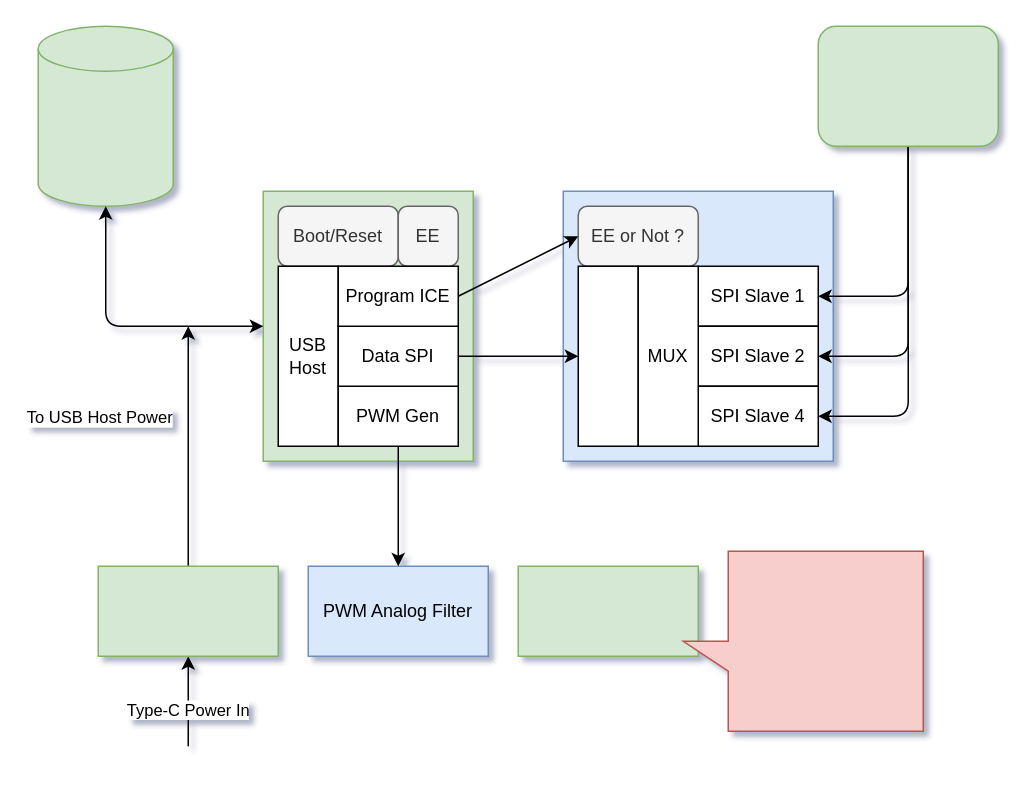
This 1034x794 diagram has some shape labels left out. The shapes that lost their labels are listed below. From the top down, each one's box as (x1, y1, x2, y2) in pixels, then its label:
(817, 25, 998, 146): DAQ
(37, 25, 173, 206): Commutator
(577, 265, 638, 446): SPI Slave
(97, 565, 278, 656): Power to USB Host
(517, 565, 698, 656): LEDs
(682, 550, 923, 731): Power FPGA - Done MCU - Ready Run Error
